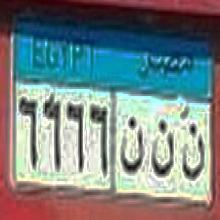6: (18, 89, 39, 172), (89, 97, 109, 178), (65, 97, 84, 180), (43, 98, 62, 179)
noon: (182, 120, 206, 186), (120, 110, 143, 178), (151, 116, 175, 181)
